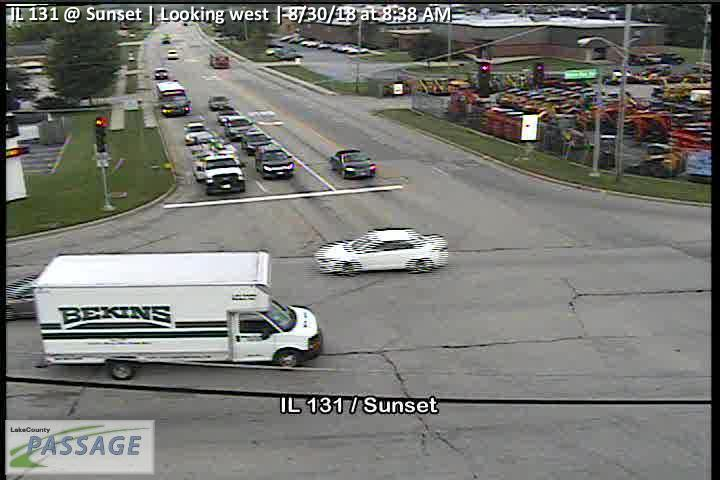Sedan: (312, 227, 447, 276), (203, 155, 247, 194), (329, 147, 376, 177), (255, 145, 295, 179), (241, 129, 274, 154), (223, 115, 255, 139), (206, 94, 231, 110), (218, 107, 239, 126)
Truck: (28, 253, 325, 381), (156, 79, 192, 117)
